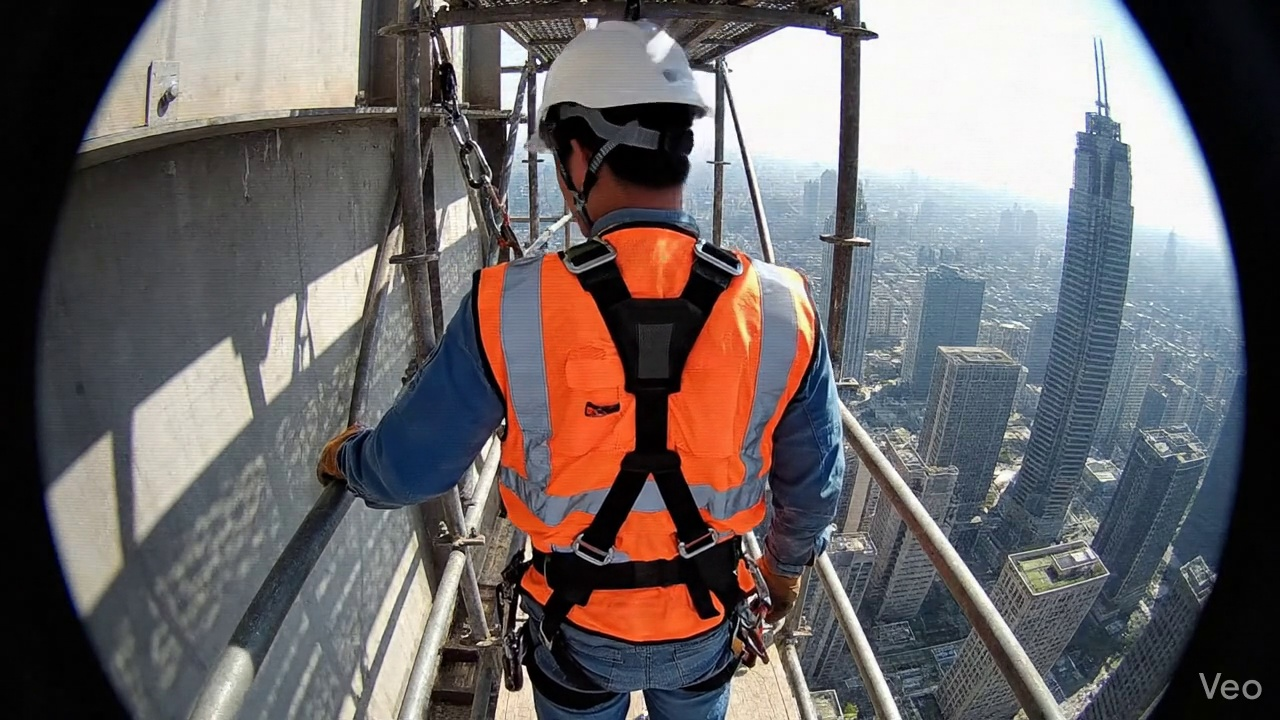person: (317, 21, 843, 719)
